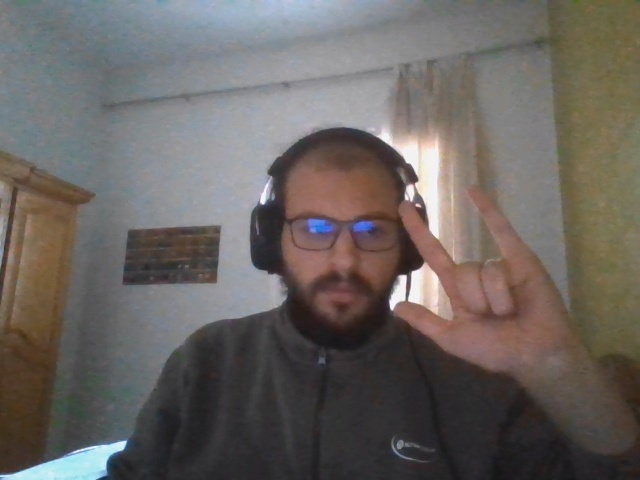I Love You: (394, 186, 571, 371)
